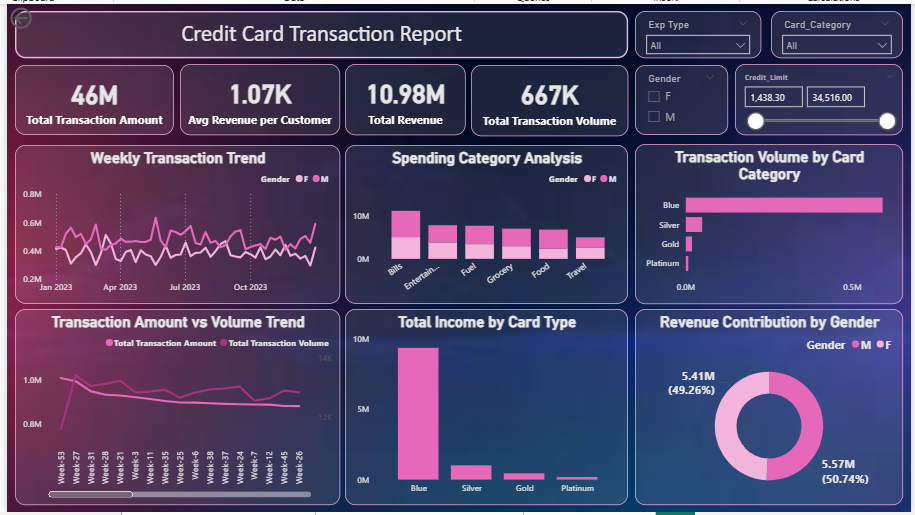

Layout of this report page (visuals, bound fields, positions):
{"tool":"powerbi","page":{"name":"Credit Card Transaction Report","canvas":[1280,720],"ordinal":1},"visuals":[{"type":"textbox","box":[11.3,9.9,868.8,66.6],"z":0},{"type":"card","fields":{"Values":["Transaction.Total Transaction Amount"]},"box":[11.3,86.5,225.4,99.2],"z":1000},{"type":"card","fields":{"Values":["Transaction.Total Transaction Volume"]},"box":[657.6,86.5,222.5,100.6],"z":2000},{"type":"card","fields":{"Values":["Transaction.Total Revenue"]},"box":[479.1,85,171.5,100.6],"z":3000},{"type":"lineChart","title":"Weekly Transaction Trend","fields":{"Y":["Sum(Transaction.Total_Trans_Amt)"],"Category":["Transaction.Week_Start_Date.Variation.Date Hierarchy.Year","Transaction.Week_Start_Date.Variation.Date Hierarchy.Quarter","Transaction.Week_Start_Date.Variation.Date Hierarchy.Month","Transaction.Week_Start_Date.Variation.Date Hierarchy.Day"],"Series":["Customer.Gender"]},"box":[11.3,199.8,460.6,225.4],"z":4000},{"type":"columnChart","title":"Spending Category Analysis","fields":{"Category":["Transaction.Exp Type"],"Y":["Transaction.Total Transaction Amount"],"Series":["Customer.Gender"]},"box":[479.1,199.8,401.1,225.4],"z":5000},{"type":"clusteredBarChart","title":"Transaction Volume by Card Category","fields":{"Category":["Transaction.Card_Category"],"Y":["Sum(Transaction.Total_Trans_Vol)"]},"box":[890.1,198.4,379.8,226.8],"z":6000},{"type":"donutChart","title":"Revenue Contribution by Gender","fields":{"Category":["Customer.Gender"],"Y":["Transaction.Total Revenue"]},"box":[890.1,432.3,379.8,277.8],"z":7000},{"type":"slicer","fields":{"Values":["Customer.Gender"]},"box":[890.1,86.5,131.8,99.2],"z":8000},{"type":"slicer","fields":{"Values":["Transaction.Card_Category"]},"box":[1082.8,9.9,187.1,66.6],"z":9000},{"type":"slicer","fields":{"Values":["Transaction.Exp Type"]},"box":[890.1,9.9,178.6,66.6],"z":10000},{"type":"card","fields":{"Values":["Customer.Avg Revenue per Customer"]},"box":[245,85,226.8,100.6],"z":12000},{"type":"columnChart","title":"Total Income by Card Type","fields":{"Category":["Transaction.Card_Category"],"Y":["Transaction.Total Revenue"]},"box":[479.1,432.3,401.1,277.8],"z":13000},{"type":"lineChart","title":"Transaction Amount vs Volume Trend","fields":{"Category":["Transaction.Week_Num"],"Y":["Transaction.Total Transaction Amount"],"Y2":["Transaction.Total Transaction Volume"]},"box":[11.3,432.3,460.6,277.8],"z":14000},{"type":"actionButton","box":[0,0,100,40],"z":15000},{"type":"slicer","fields":{"Values":["Transaction.Credit_Limit"]},"box":[1031.8,85,238.1,100.6],"z":16000}]}

Visuals, with their boxes in screenshot pixels (x1, y1, x2, y2), scaled from the page's 1280x720 canvas onto the 915x515 screenshot:
textbox: [left=8, top=7, right=629, bottom=55]
card - Transaction.Total Transaction Amount: [left=8, top=62, right=169, bottom=133]
card - Transaction.Total Transaction Volume: [left=470, top=62, right=629, bottom=134]
card - Transaction.Total Revenue: [left=342, top=61, right=465, bottom=133]
"Weekly Transaction Trend" lineChart: [left=8, top=143, right=337, bottom=304]
"Spending Category Analysis" columnChart: [left=342, top=143, right=629, bottom=304]
"Transaction Volume by Card Category" clusteredBarChart: [left=636, top=142, right=908, bottom=304]
"Revenue Contribution by Gender" donutChart: [left=636, top=309, right=908, bottom=508]
slicer - Customer.Gender: [left=636, top=62, right=730, bottom=133]
slicer - Transaction.Card_Category: [left=774, top=7, right=908, bottom=55]
slicer - Transaction.Exp Type: [left=636, top=7, right=764, bottom=55]
card - Customer.Avg Revenue per Customer: [left=175, top=61, right=337, bottom=133]
"Total Income by Card Type" columnChart: [left=342, top=309, right=629, bottom=508]
"Transaction Amount vs Volume Trend" lineChart: [left=8, top=309, right=337, bottom=508]
actionButton: [left=0, top=0, right=71, bottom=29]
slicer - Transaction.Credit_Limit: [left=738, top=61, right=908, bottom=133]
